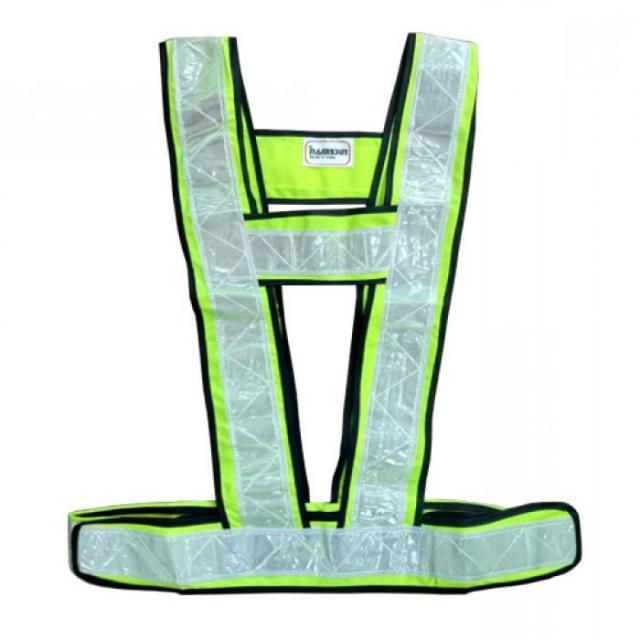Reflective-Jacket: (20, 10, 598, 629)
